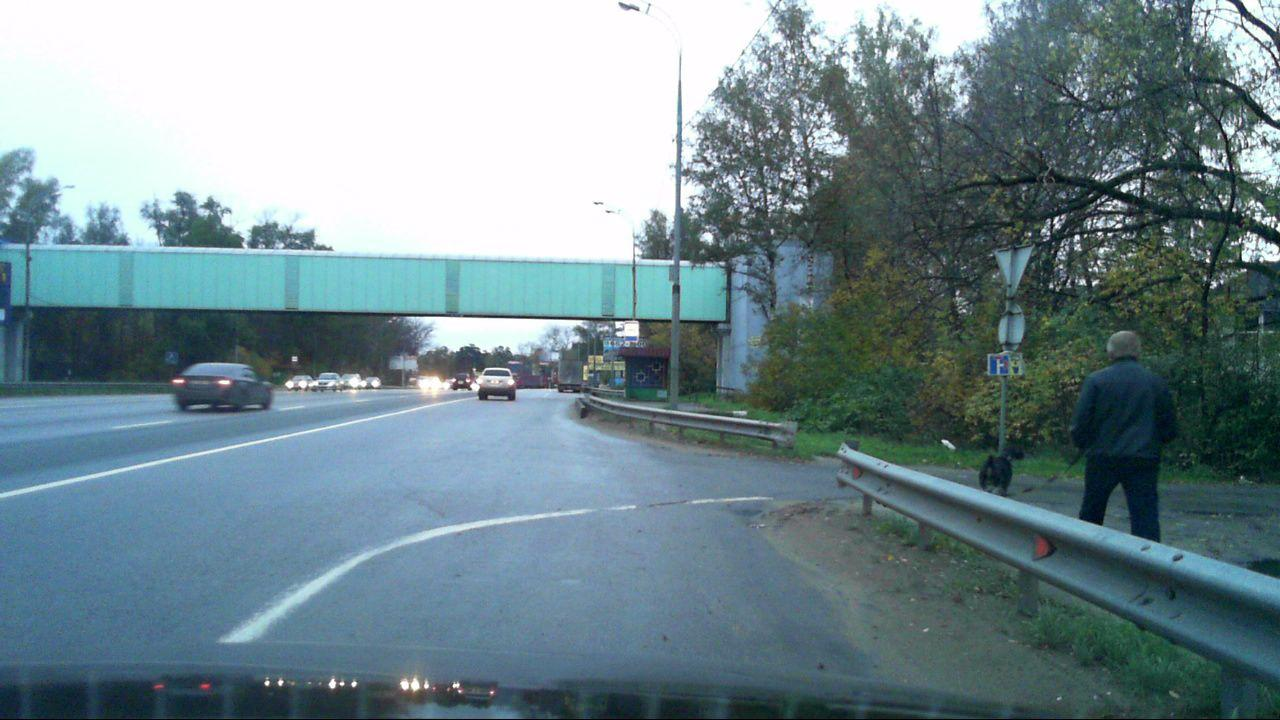5_16: (625, 321, 640, 341)
6_8_2: (988, 354, 1011, 376)
